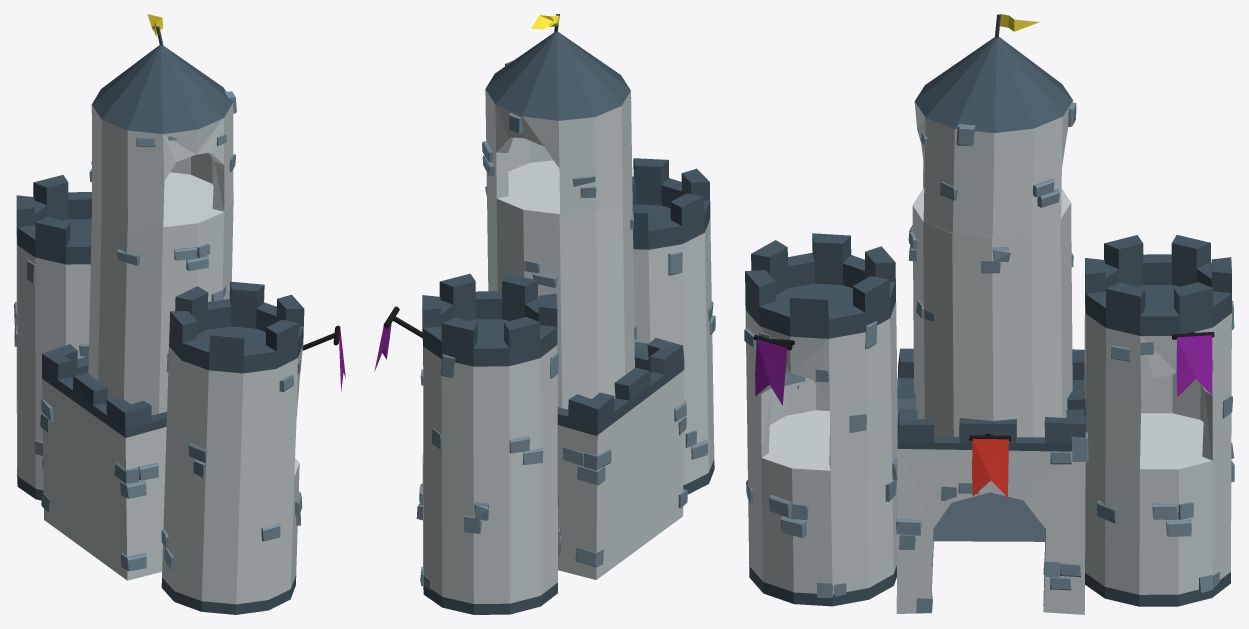
The model's file is tower_lvl3.fbx.
The picture shows the model from 3 angles, left to right: view 1: azimuth 30°, elevation 25°; view 2: azimuth 150°, elevation 25°; view 3: azimuth 270°, elevation 25°; orthographic projection. The views are drawn at different scales.
Parts seen in each view (by area): view 1: group267566094; view 2: group267566094; view 3: group267566094.
Boxes of the visible parts, x1=… form: group267566094: x1=14, y1=14, x2=345, y2=614; group267566094: x1=374, y1=14, x2=715, y2=614; group267566094: x1=744, y1=14, x2=1234, y2=614.
Bounding box in the file's own units: 87.06 × 231 × 181.
